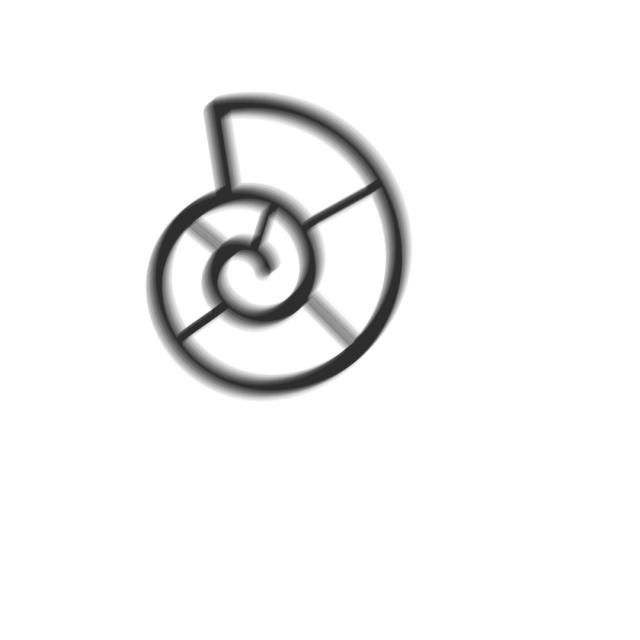fossil: (142, 90, 416, 407)
